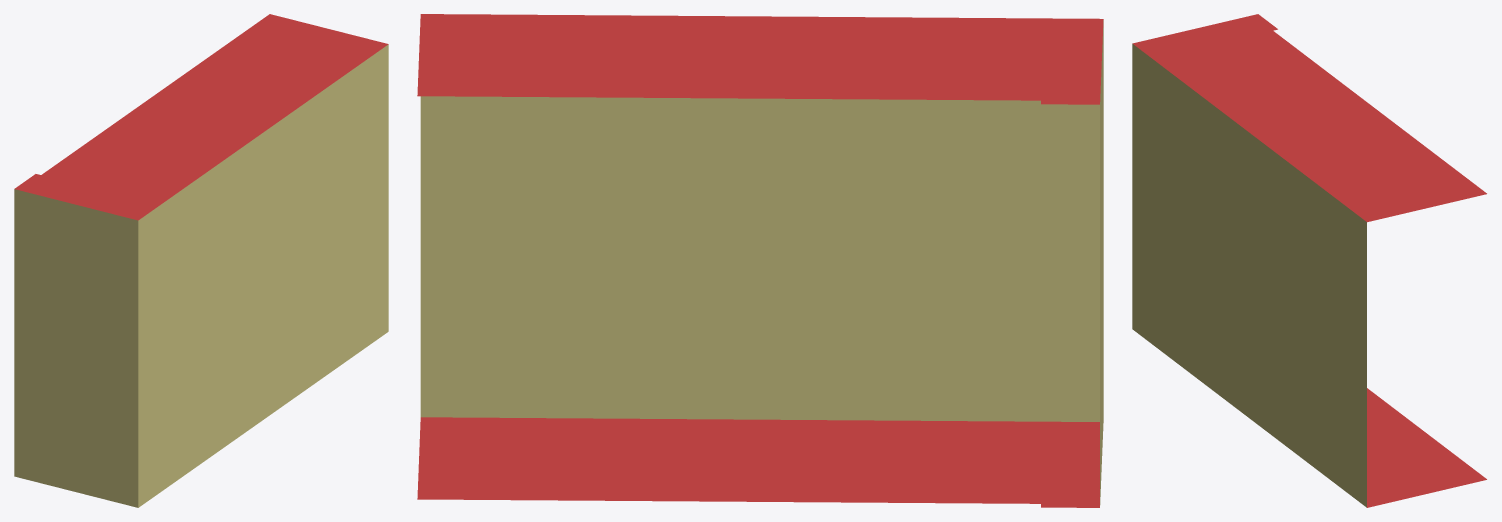
3 renders of one model, left to right at view 1: azimuth 30°, elevation 25°; view 2: azimuth 150°, elevation 25°; view 3: azimuth 270°, elevation 25°, orthographic. The views are drawn at different scales.
Size of the model in its own units: 8.8 by 6.35 by 5.63.
